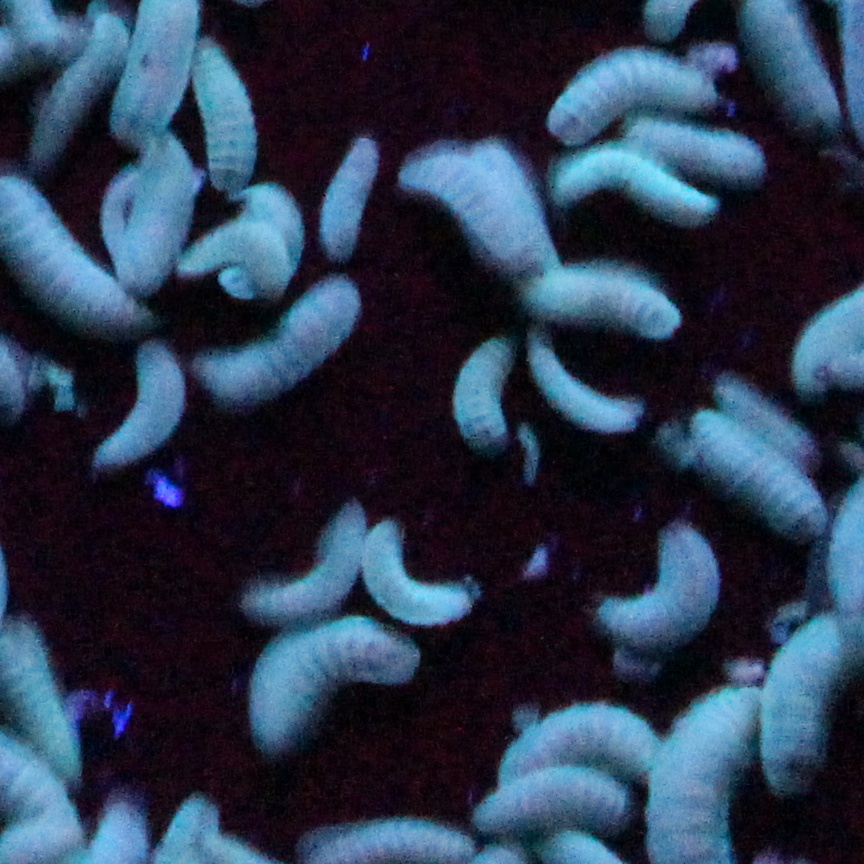larve: (184, 276, 357, 405), (248, 622, 415, 749), (396, 147, 548, 264), (688, 407, 821, 534), (548, 49, 719, 145), (236, 505, 367, 626), (594, 524, 719, 649), (488, 701, 667, 780), (94, 343, 186, 474), (367, 522, 480, 628), (526, 339, 648, 432), (626, 112, 771, 189), (473, 764, 636, 830), (551, 159, 723, 220), (515, 272, 684, 334), (709, 376, 826, 462), (313, 132, 380, 266), (455, 341, 515, 451)
